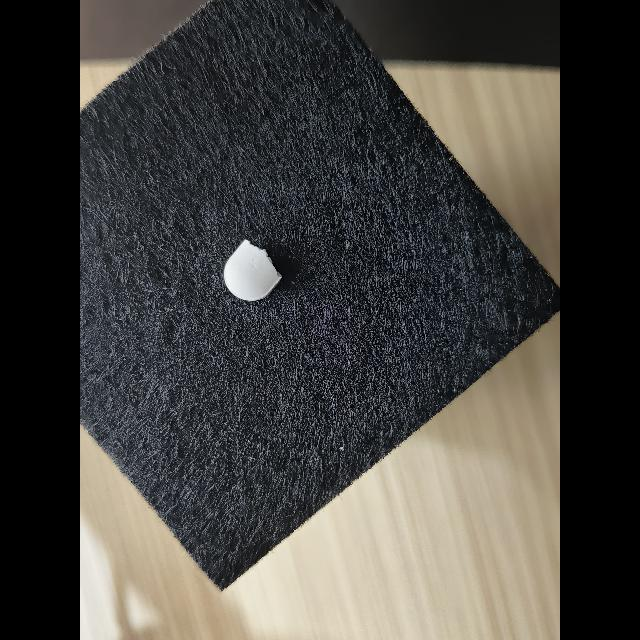Chipped Pill: (224, 239, 282, 301)
